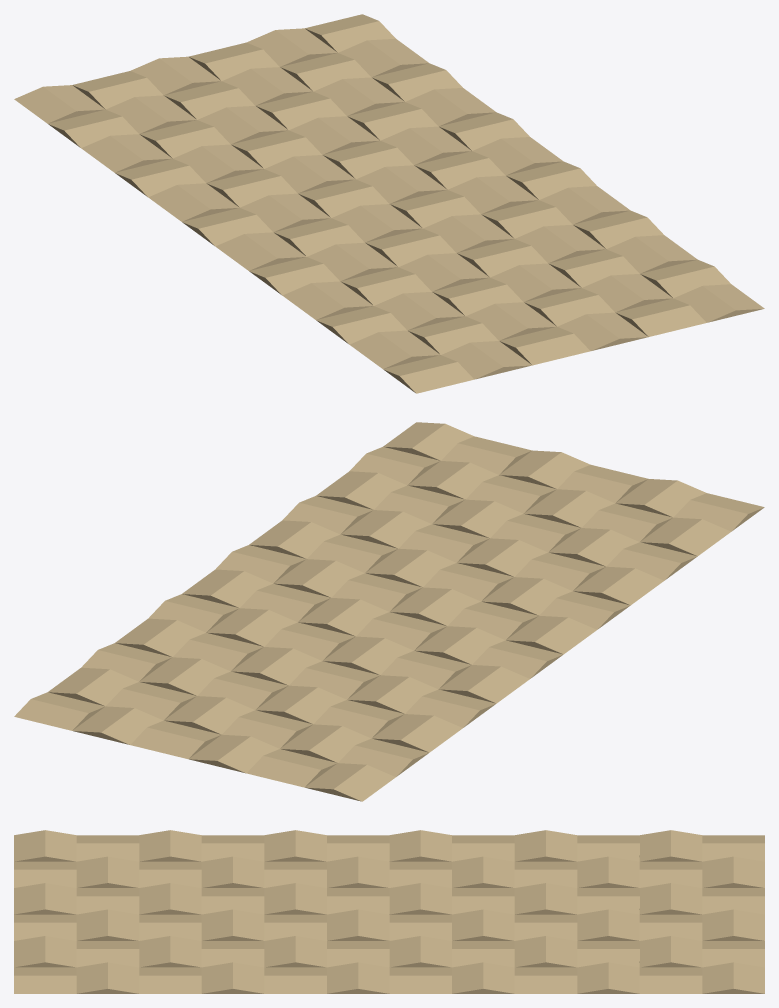
The model's file is JungleMat.fbx.
The picture shows the model from 3 angles, top to bottom: view 1: azimuth 30°, elevation 25°; view 2: azimuth 150°, elevation 25°; view 3: azimuth 270°, elevation 25°; orthographic projection. The views are drawn at different scales.
Parts seen in each view (by area): view 1: Mat_square; view 2: Mat_square; view 3: Mat_square.
Part boxes in pixels (bbox=[...]): Mat_square: bbox=[14, 14, 764, 393]; Mat_square: bbox=[14, 422, 764, 801]; Mat_square: bbox=[14, 830, 764, 993].
Bounding box in the file's own units: 0.96 × 0.0143 × 1.92.
